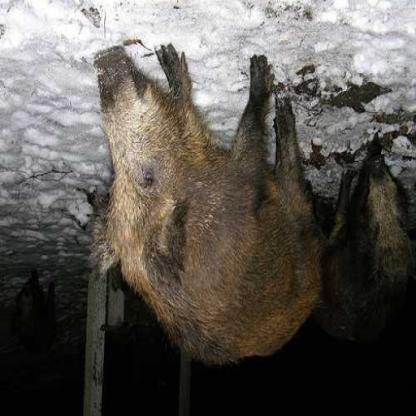boar: (63, 8, 290, 388), (297, 141, 415, 353)
